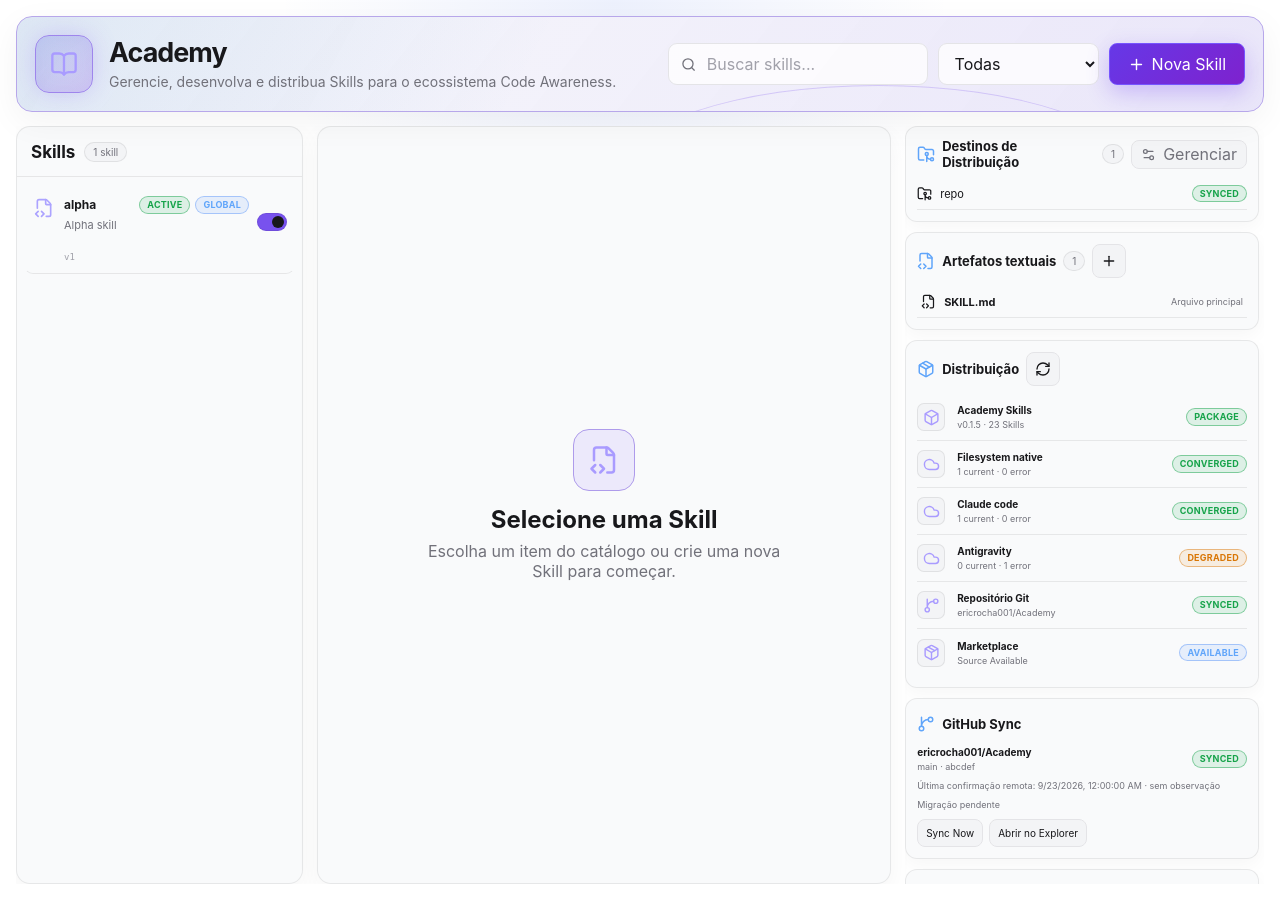
Test: does not announce successful Git publication for ERROR
Click the button "Sync Now" at (950, 833), box [917,819,983,847]
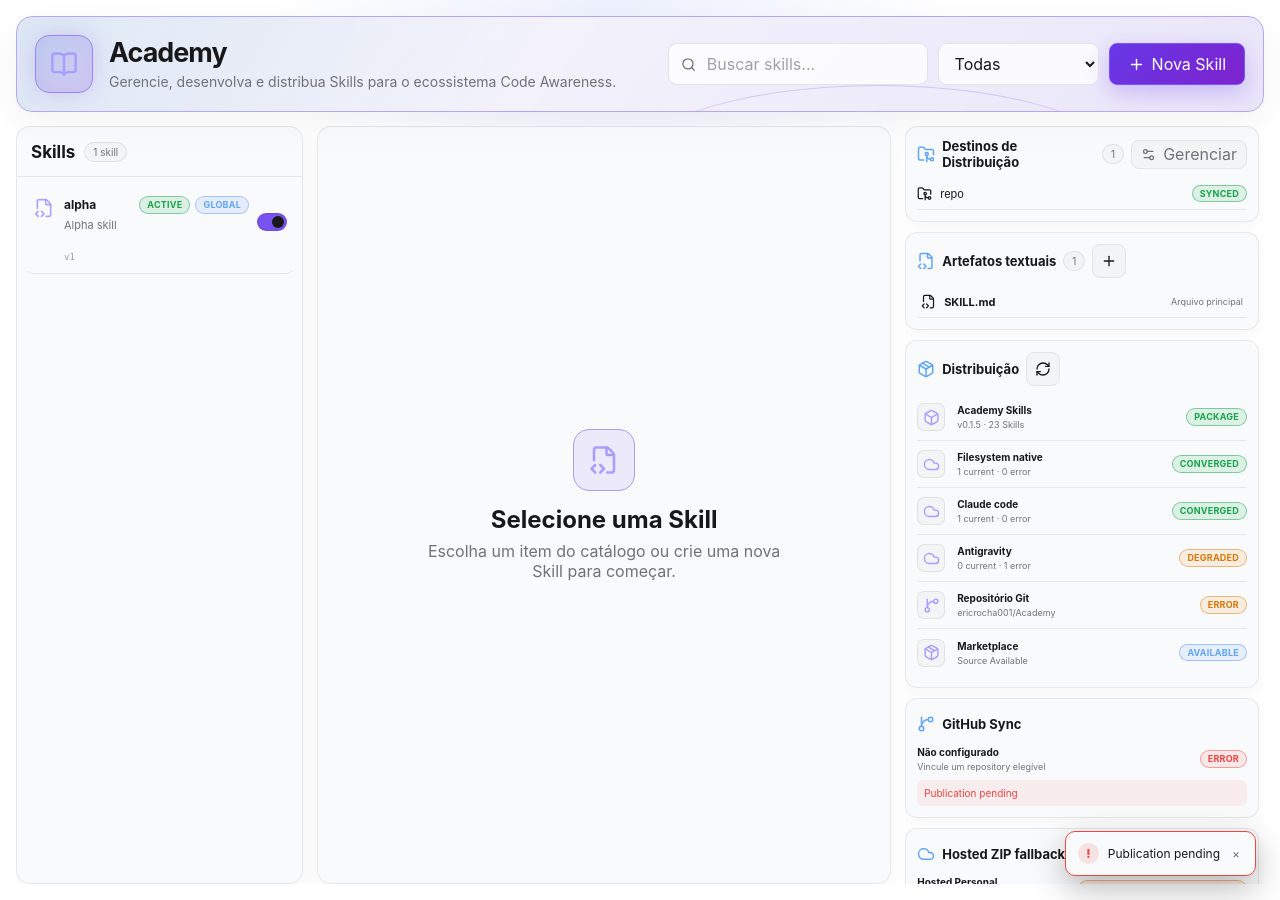
Expected: the text "Publication pending" is shown, [917,780,1247,806]
